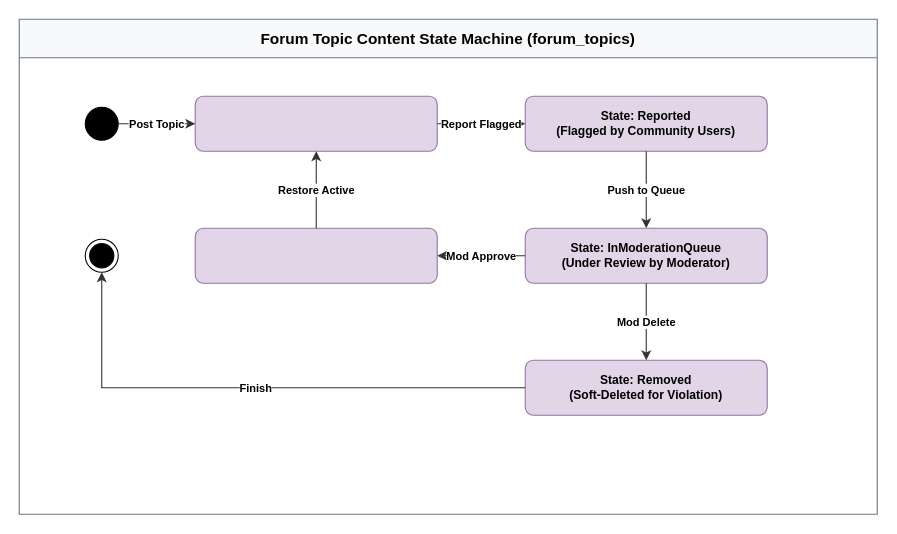
Image size: 897x534. Some labels were removed from this diagram. The box of each missing label's shape, as (x1, y1, x2, y2) in pixels:
State: Active (Topic Published on Forum): (194, 95, 437, 151)
State: Approved (Keep & Dismiss Reports): (194, 227, 437, 283)
